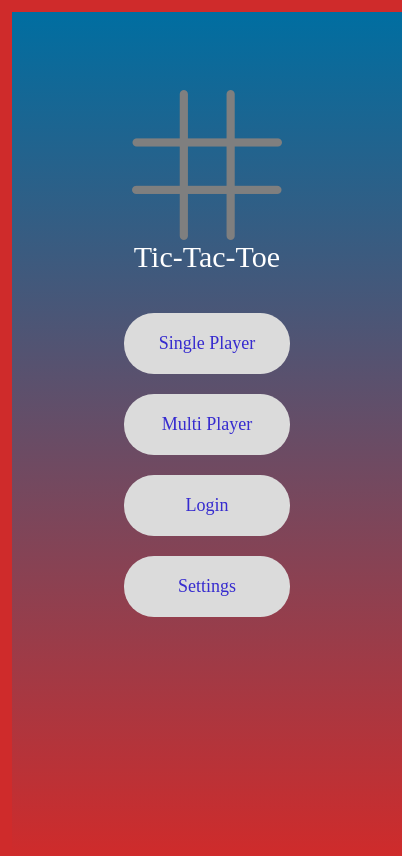
Test: <Navigator/> › should navigate to the single player game screen by tapping on the "Single Player" button
What coordinates should you click on to do the following:
click the text "Single Player"
I would click on:
 (207, 344)
Its box is [159, 333, 255, 354].
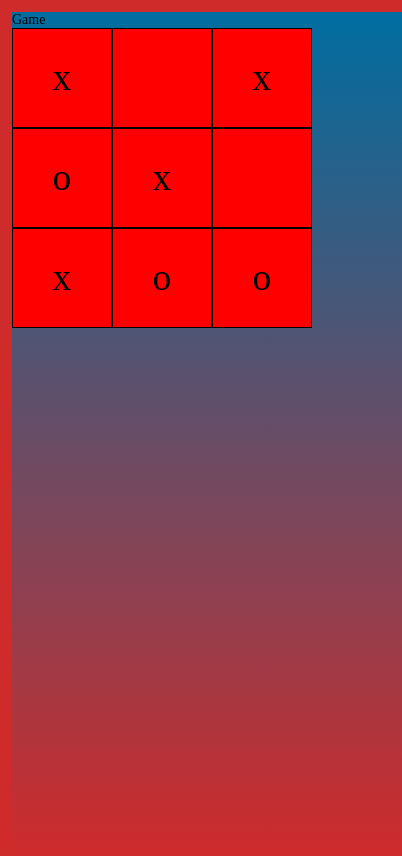
Check: the text "Game" is shown, box [12, 12, 45, 27]
